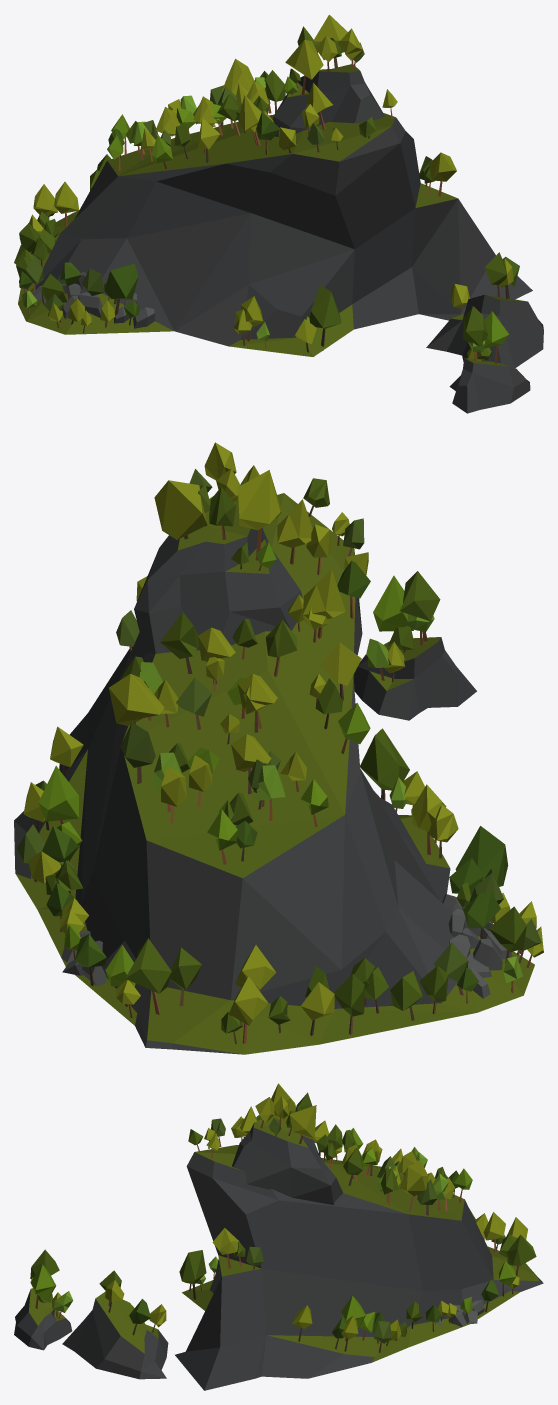
File: Open Ocean Island 3.fbx
3 renders of one model, top to bottom at view 1: azimuth 30°, elevation 25°; view 2: azimuth 150°, elevation 25°; view 3: azimuth 270°, elevation 25°, orthographic. The views are drawn at different scales.
Visible parts, largest first — view 1: Island 3, Trees; view 2: Island 3, Trees; view 3: Island 3, Trees.
Boxes of the visible parts, <box> form: Island 3: <box>18,64,543,413</box>; Trees: <box>14,14,519,363</box>; Island 3: <box>14,493,534,1054</box>; Trees: <box>16,442,543,1044</box>; Island 3: <box>14,1116,543,1390</box>; Trees: <box>30,1083,536,1352</box>.
Size of the model in its own units: 4826 by 3061 by 6219.
